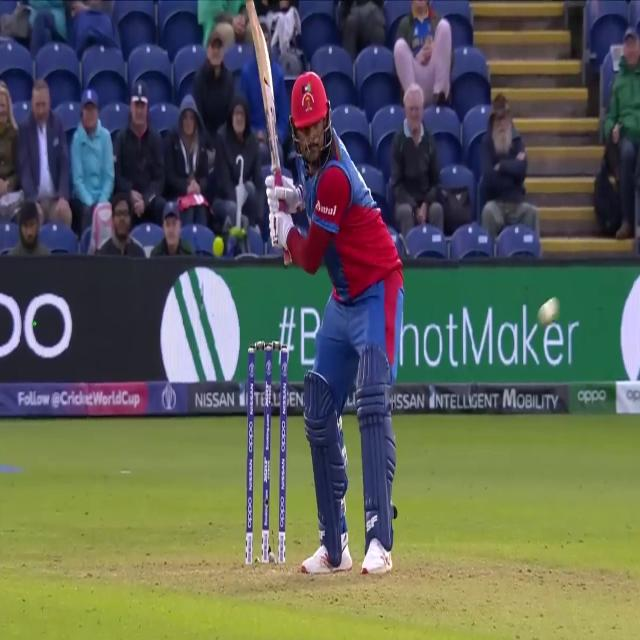ball: (535, 292, 563, 330)
